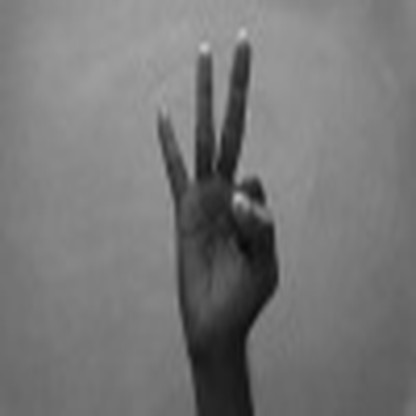f: (150, 26, 287, 351)
